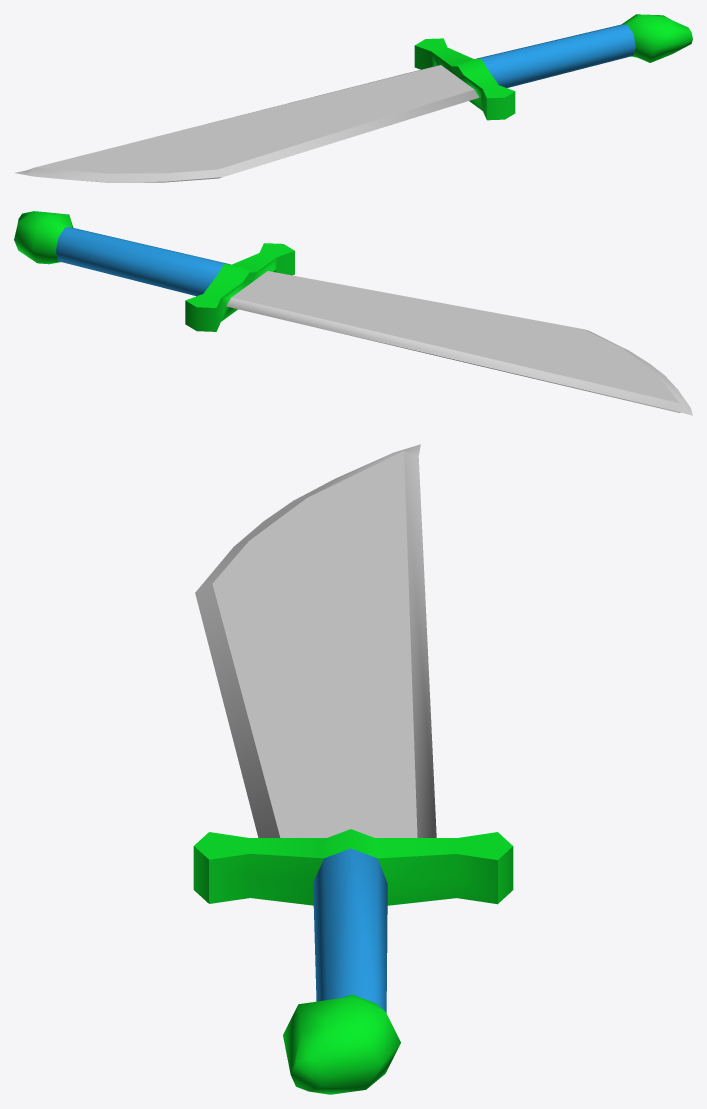
Rendered from Knife 3.fbx.
3 views of the same model, one above another, from view 1: azimuth 30°, elevation 25°; view 2: azimuth 150°, elevation 25°; view 3: azimuth 270°, elevation 25° (orthographic). The views are drawn at different scales.
Visible parts, largest first — view 1: Knife 3; view 2: Knife 3; view 3: Knife 3.
Boxes of the visible parts, x1,y1,x2,y2 form: Knife 3: (15,14,692,182); Knife 3: (14,211,692,415); Knife 3: (193,444,513,1094).
Size of the model in its own units: 1.84 by 0.1193 by 0.3943.
